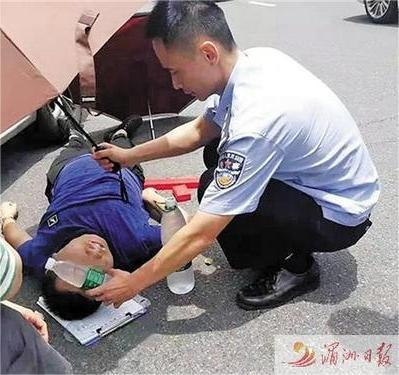bending: (133, 1, 380, 317)
down: (1, 104, 170, 323)
